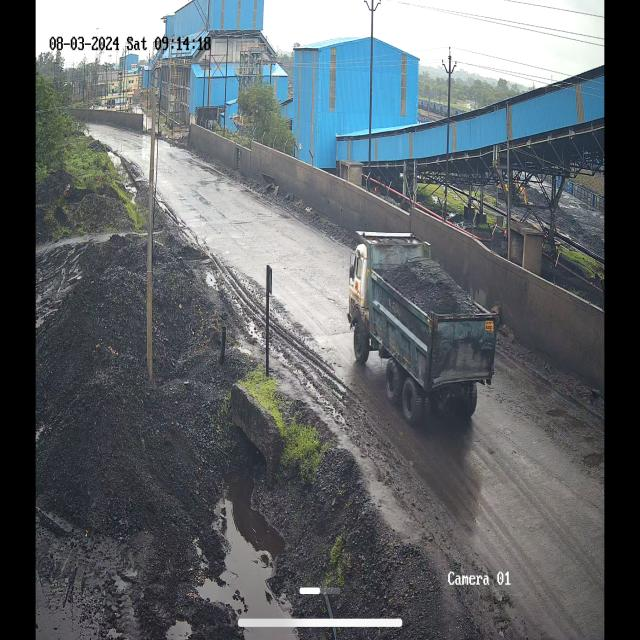dump_truck: (338, 220, 501, 430)
